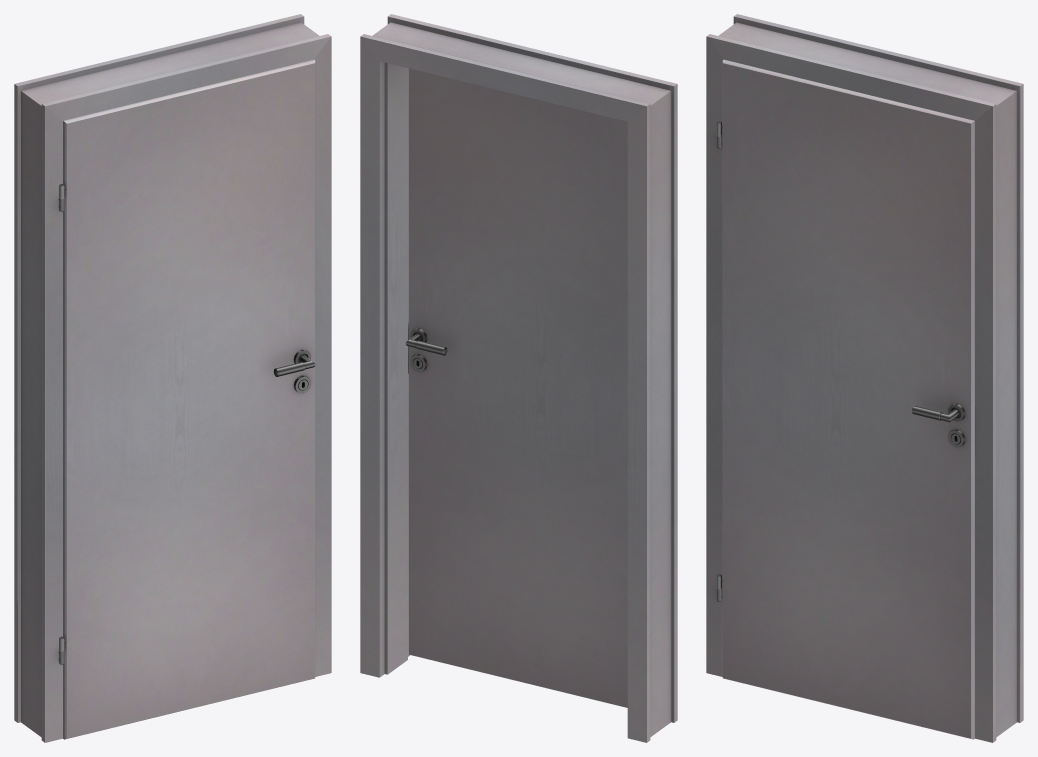
File: door_new.glb
3 renders of one model, left to right at view 1: azimuth 30°, elevation 25°; view 2: azimuth 150°, elevation 25°; view 3: azimuth 330°, elevation 25°, orthographic.
Visible parts, largest first — view 1: Plane.001, Plane.002; view 2: Plane.001, Plane.002; view 3: Plane.001, Plane.002.
Boxes of the visible parts, x1,y1,x2,y2 form: Plane.001: (59, 59, 315, 739); Plane.002: (14, 14, 331, 742); Plane.001: (408, 68, 627, 707); Plane.002: (360, 14, 677, 742); Plane.001: (716, 59, 974, 739); Plane.002: (706, 14, 1023, 742).
Size of the model in its own units: 97 by 206 by 26.06.
Materials: 2 (2 with a texture image).
